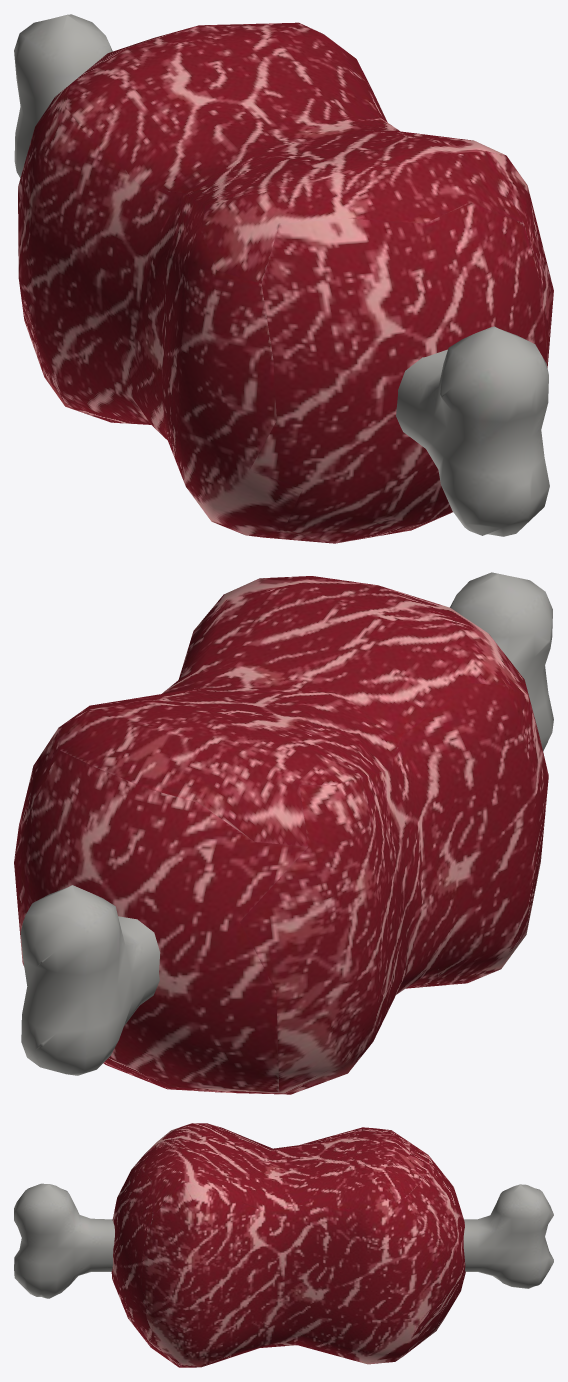
The model's file is meat.fbx.
3 renders of one model, top to bottom at view 1: azimuth 30°, elevation 25°; view 2: azimuth 150°, elevation 25°; view 3: azimuth 270°, elevation 25°, orthographic. The views are drawn at different scales.
Visible parts, largest first — view 1: Volume_Mesher; view 2: Volume_Mesher; view 3: Volume_Mesher.
Boxes of the visible parts, bbox=[...] form: Volume_Mesher: bbox=[14, 14, 553, 543]; Volume_Mesher: bbox=[14, 572, 553, 1094]; Volume_Mesher: bbox=[14, 1123, 553, 1367].
Bounding box in the file's own units: 133 × 133 × 321.
Materials: 1 (1 with a texture image).
